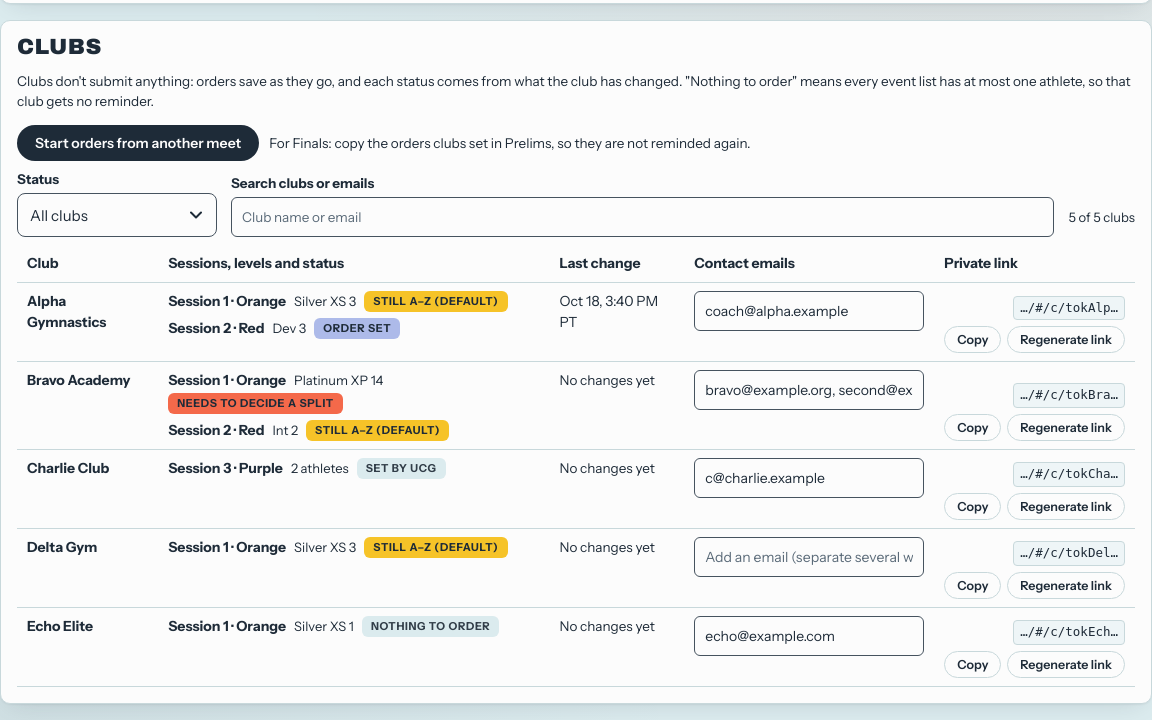
Test: Clubs table › saves edited contact emails on blur (parsed, lower-cased) and refuses junk
(page scrolled)
Expected: the heading "Clubs" is shown, x1=17 y1=35 x2=102 y2=59
Type "New@Delta.example; other@delta.example" into the field named "Contact emails for Delta Gym". click: (809,557)
box: x1=694 y1=537 x2=924 y2=577
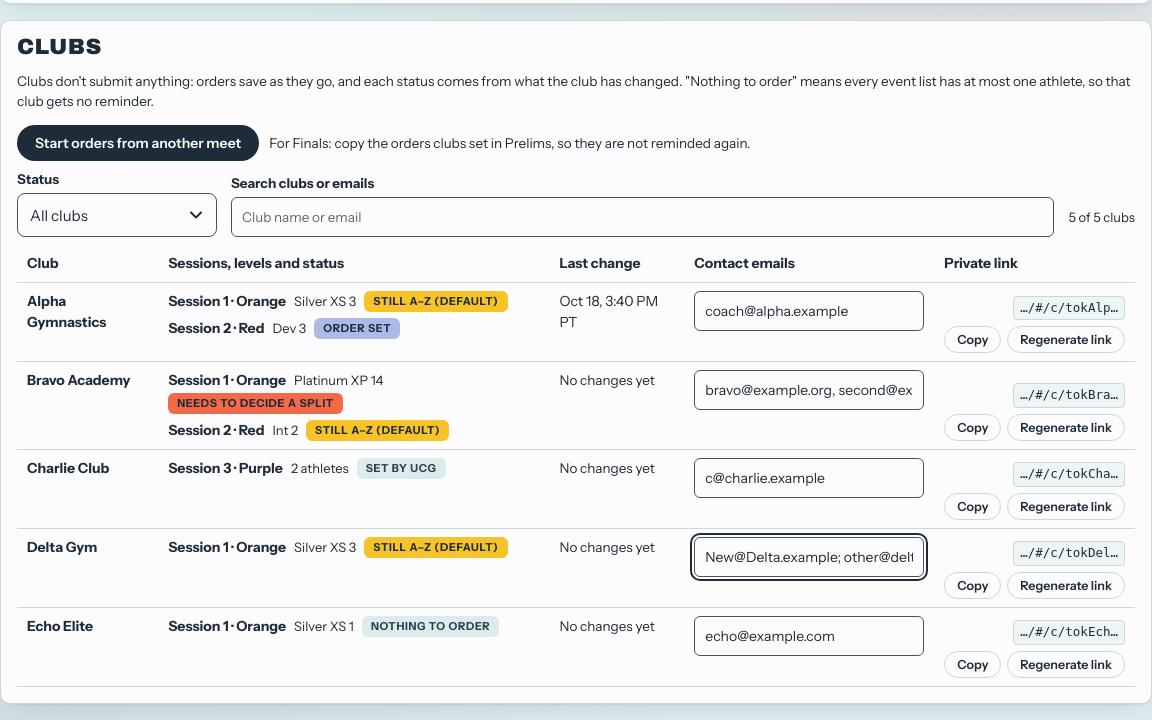
Press Tab
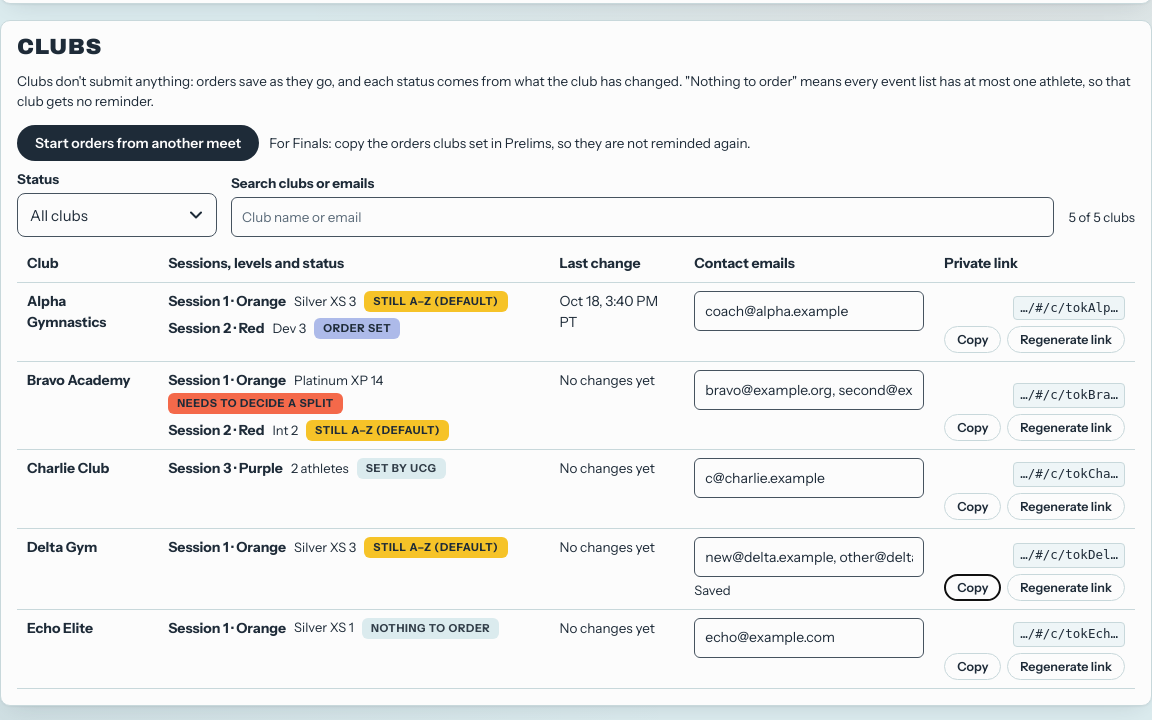
Replace the text in the field named "Contact emails for Delta Gym" with "not an address". click: (809,557)
box: x1=694 y1=537 x2=924 y2=577
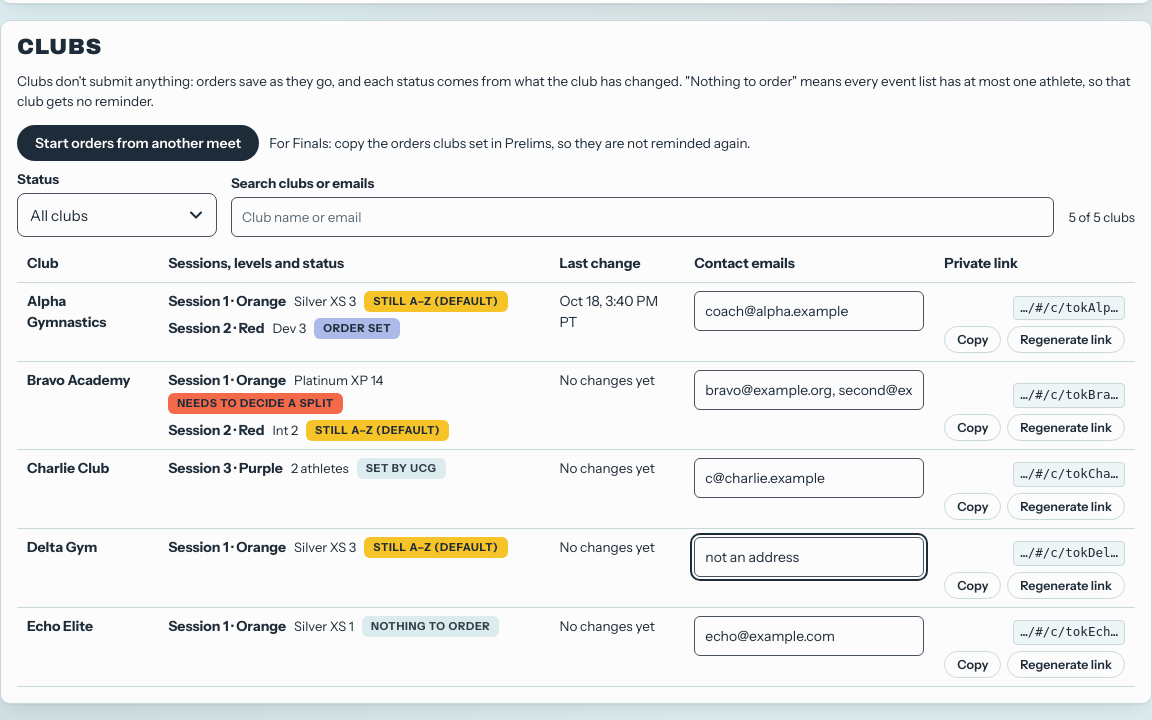
Press Tab
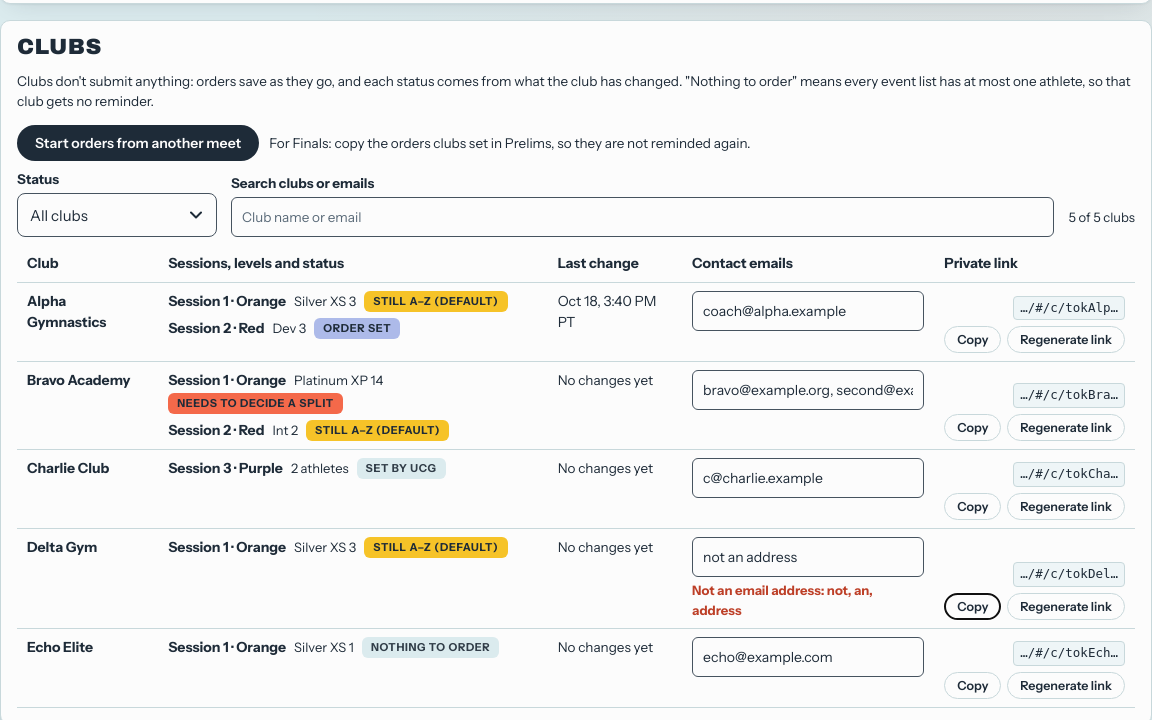
Expected: the text "Not an email address: not, an, address" is shown, x1=692 y1=582 x2=873 y2=618
